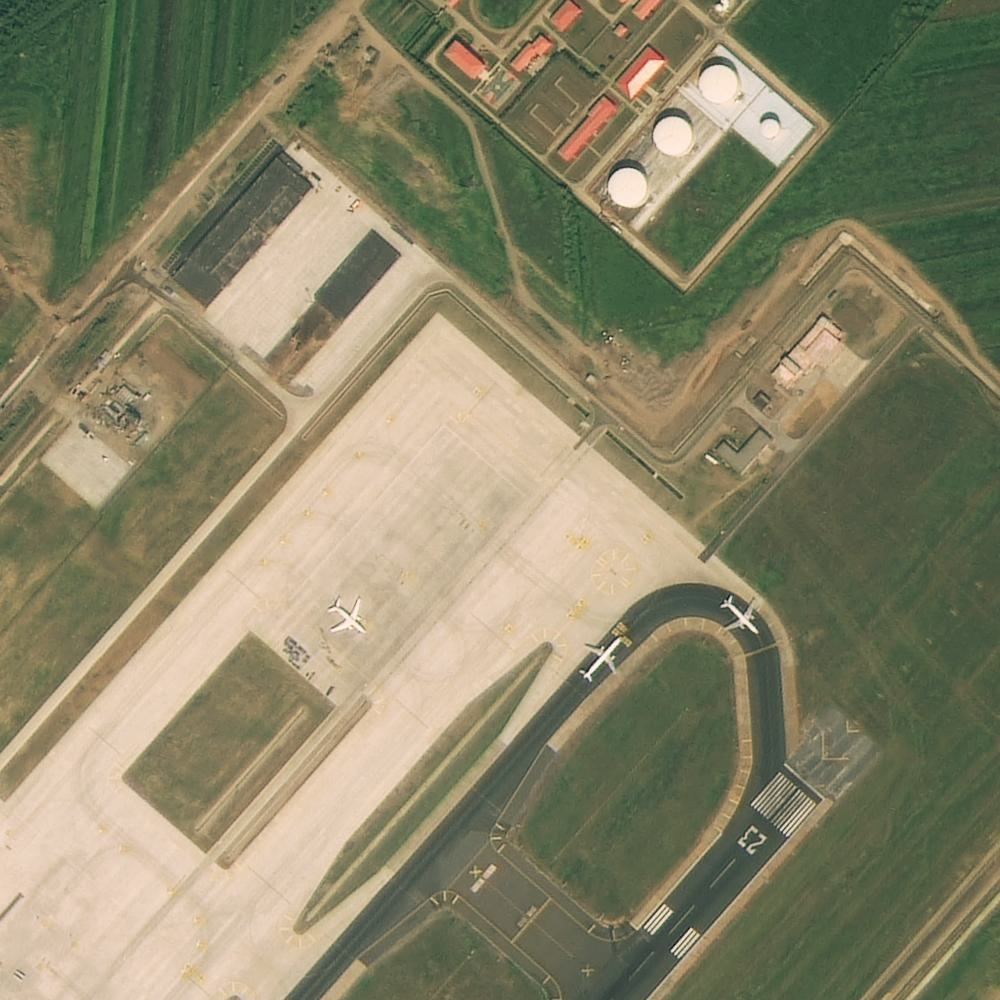A3: (192, 455, 398, 654), (58, 87, 257, 289)
